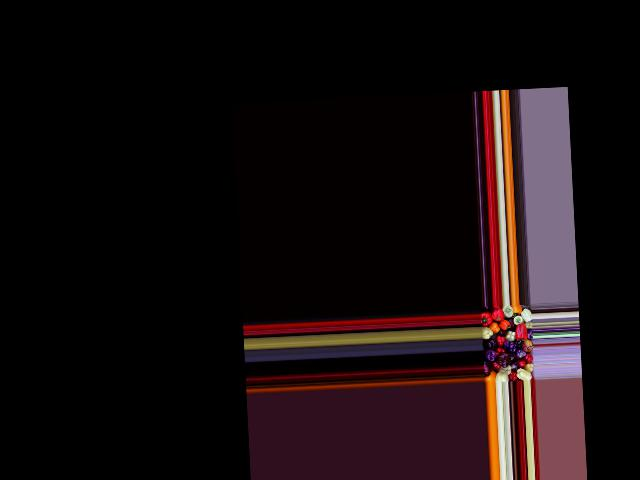bell_pepper: (502, 305, 512, 319)
